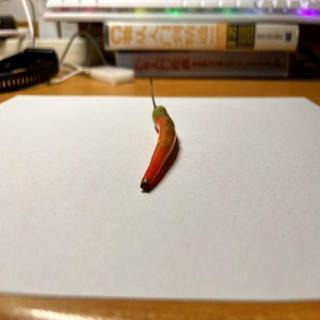Cabai Merah: (140, 75, 178, 192)
